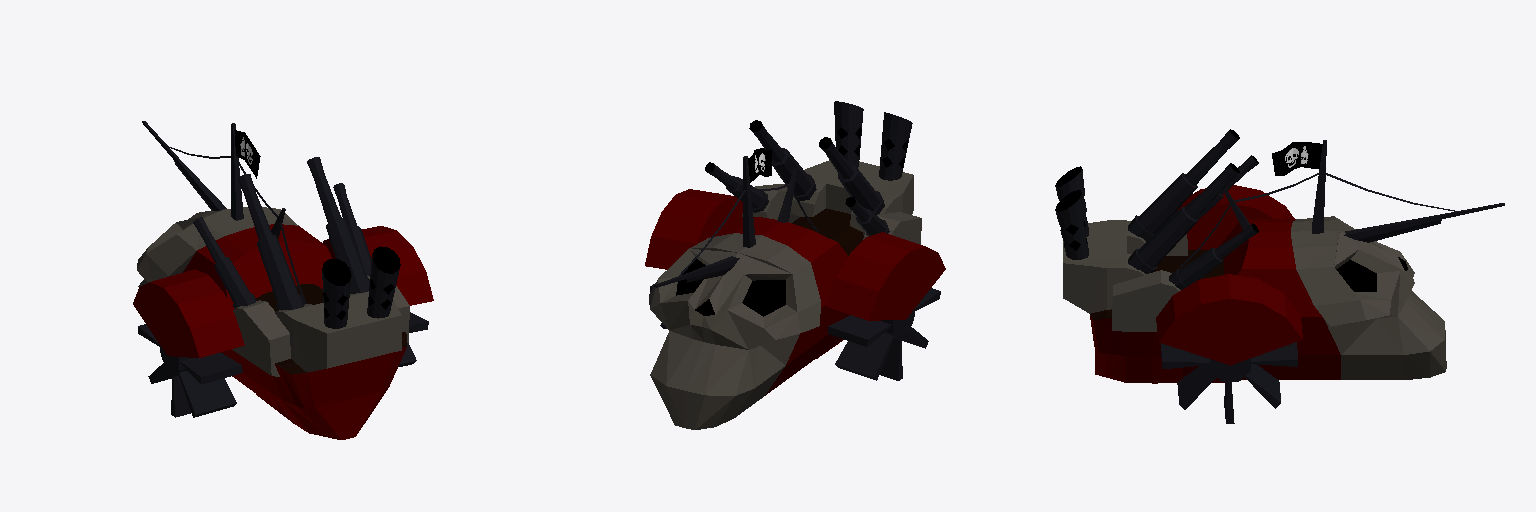
3 views of the same model, side by side, from view 1: azimuth 30°, elevation 25°; view 2: azimuth 150°, elevation 25°; view 3: azimuth 270°, elevation 25° (orthographic).
Parts seen in each view (by area): view 1: Plane.001, Cylinder.007_Cylinder.010, Circle.002_Circle.005, Circle_Circle.003, Cylinder_Cylinder.013, Plane.003_Plane.006, Circle.006_Circle.013, Cube.005_Cube.023, Cube.004_Cube.022, Plane.007_Plane.002; view 2: Circle.002_Circle.005, Cylinder.007_Cylinder.010, Plane.001, Circle_Circle.003, Cylinder_Cylinder.013, Circle.006_Circle.013, Plane.003_Plane.006, Cube.004_Cube.022, Cube.005_Cube.023, Plane.007_Plane.002; view 3: Circle.002_Circle.005, Cylinder.007_Cylinder.010, Plane.001, Circle_Circle.003, Plane.003_Plane.006, Cylinder_Cylinder.013, Circle.006_Circle.013, Cube.005_Cube.023, Plane.007_Plane.002, Cube.004_Cube.022, Plane.002_Plane.003.
Part boxes in pixels (x1,y1,x2,y2): Plane.001: (224,284,406,439); Cylinder.007_Cylinder.010: (133,226,433,417); Circle.002_Circle.005: (137,207,331,408); Circle_Circle.003: (238,157,369,310); Cylinder_Cylinder.013: (322,246,400,328); Plane.003_Plane.006: (232,276,409,376); Circle.006_Circle.013: (193,183,371,307); Cube.005_Cube.023: (142,121,226,210); Cube.004_Cube.022: (231,123,243,220); Plane.007_Plane.002: (235,129,260,178); Circle.002_Circle.005: (649,217,847,429); Cylinder.007_Cylinder.010: (645,189,945,380); Plane.001: (787,160,913,358); Circle_Circle.003: (749,120,884,214); Cylinder_Cylinder.013: (834,101,912,180); Circle.006_Circle.013: (705,162,889,236); Plane.003_Plane.006: (742,184,921,244); Cube.004_Cube.022: (743,156,755,247); Cube.005_Cube.023: (654,256,739,287); Plane.007_Plane.002: (748,148,771,182); Circle.002_Circle.005: (1182,216,1446,379); Cylinder.007_Cylinder.010: (1156,185,1302,423); Plane.001: (1063,220,1225,383); Circle_Circle.003: (1128,129,1239,273); Plane.003_Plane.006: (1112,234,1187,331); Cylinder_Cylinder.013: (1055,166,1088,259); Circle.006_Circle.013: (1169,155,1258,289); Cube.005_Cube.023: (1344,203,1504,242); Plane.007_Plane.002: (1272,142,1322,175); Cube.004_Cube.022: (1312,140,1326,233); Plane.002_Plane.003: (1180,173,1459,268).
Bounding box in the file's own units: 49.48 × 46.41 × 81.66.
Materials: 9 (1 with a texture image).